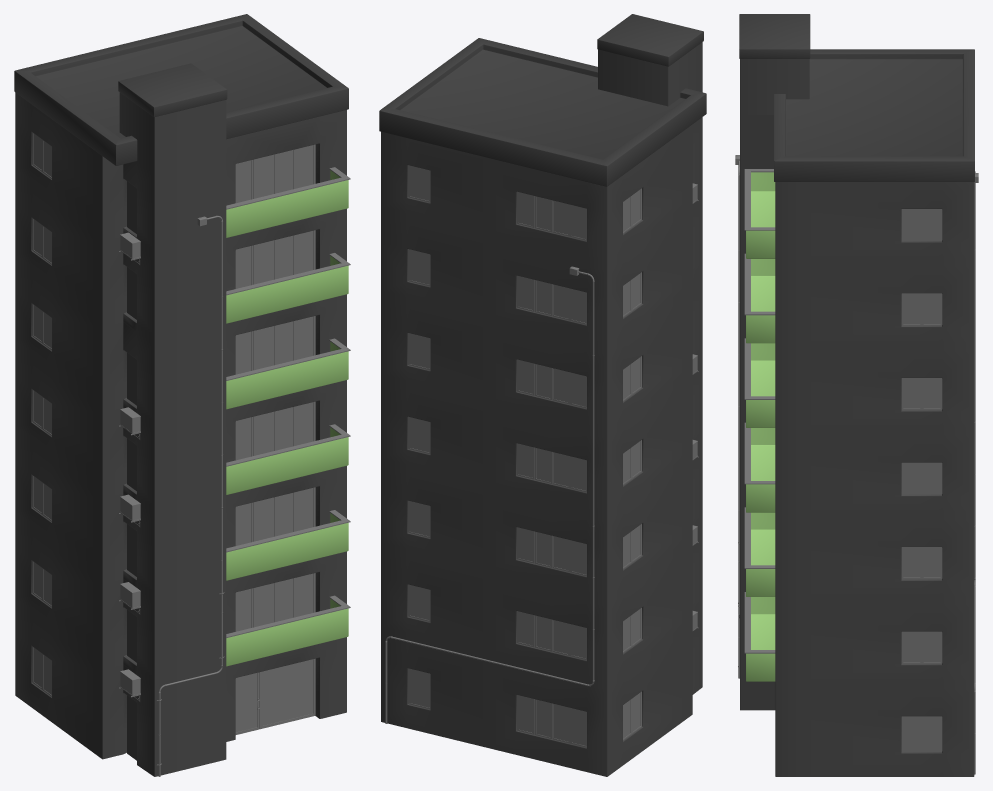
Rendered from SM_apartment_building_01.fbx.
3 views of the same model, side by side, from view 1: azimuth 30°, elevation 25°; view 2: azimuth 150°, elevation 25°; view 3: azimuth 270°, elevation 25° (orthographic). The views are drawn at different scales.
Parts seen in each view (by area): view 1: Object1284597; view 2: Object1284597; view 3: Object1284597.
Part boxes in pixels (<box>): Object1284597: <box>14,14,350,776</box>; Object1284597: <box>379,14,706,776</box>; Object1284597: <box>735,14,978,776</box>.
Bounding box in the file's own units: 403 × 1107 × 369.
